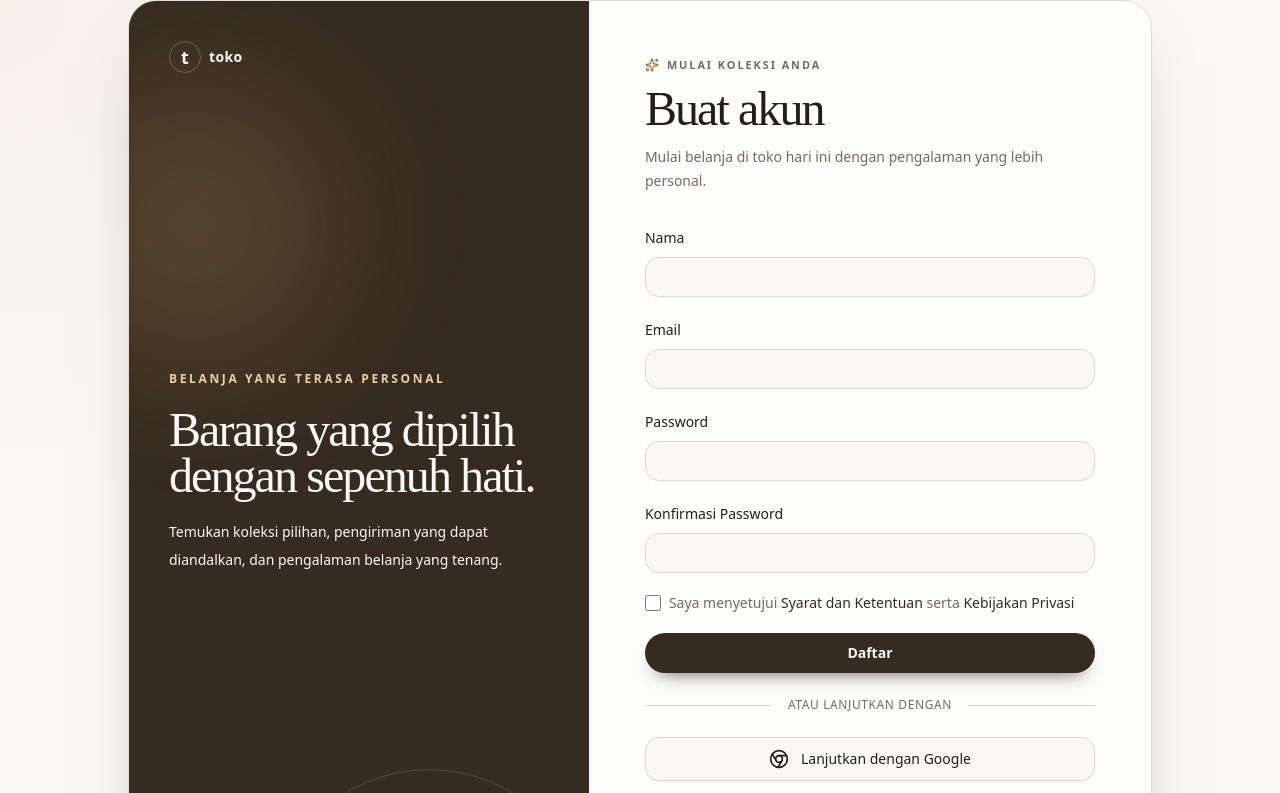
Test: RegisterPage › validates required fields
Expected: the heading "Buat akun" is shown, [645,82,824,135]
Click the button "Daftar": (870,653) [645,633,1095,673]
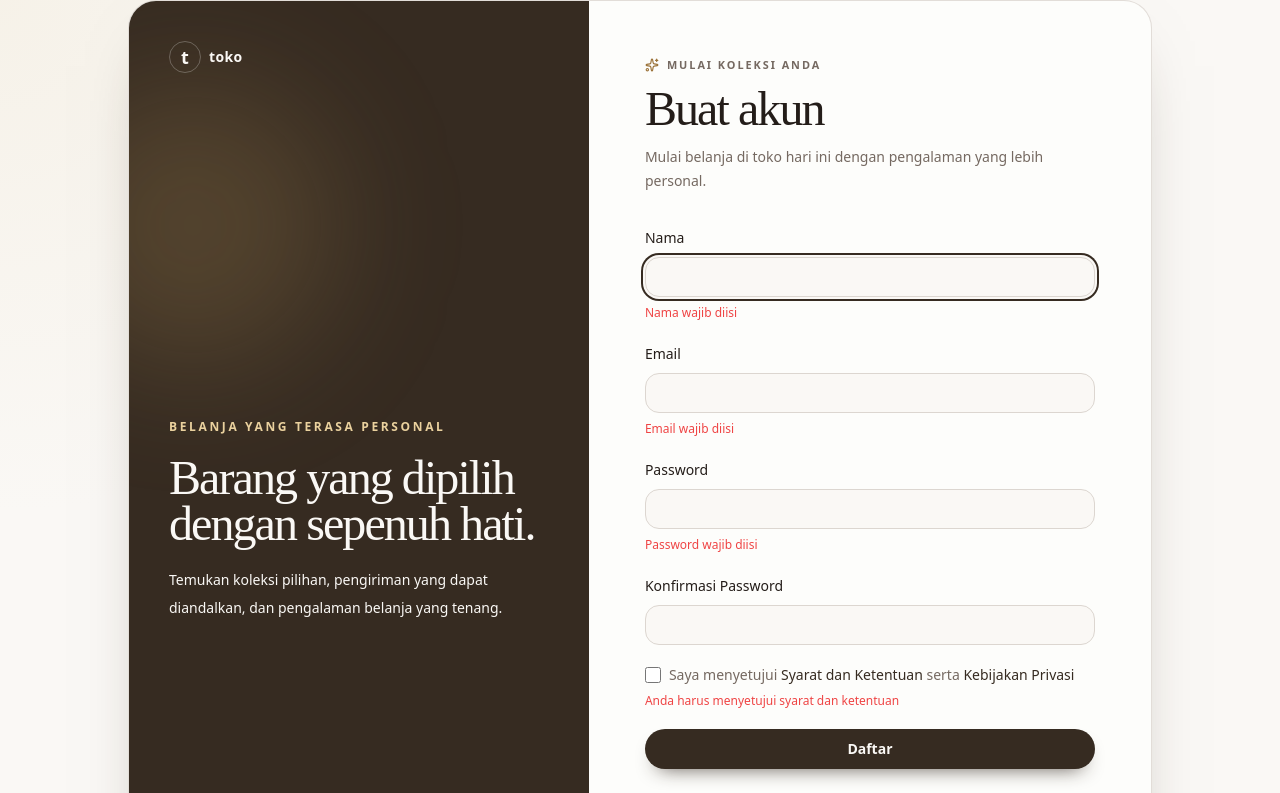
Expected: the text "Nama wajib diisi" is shown, [645,304,737,321]
Expected: the text "Email wajib diisi" is shown, [645,420,734,437]
